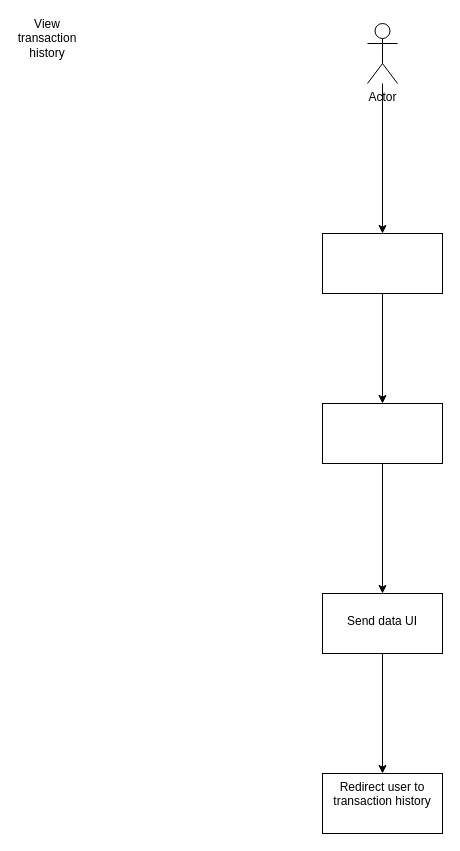
The diagram is 460 pixels wide and 851 high, and some of its shapes have lost their labels. Each missing label, with the centre of its shape:
Request transaction history: point 382,263
Send request to DB: point 382,433
